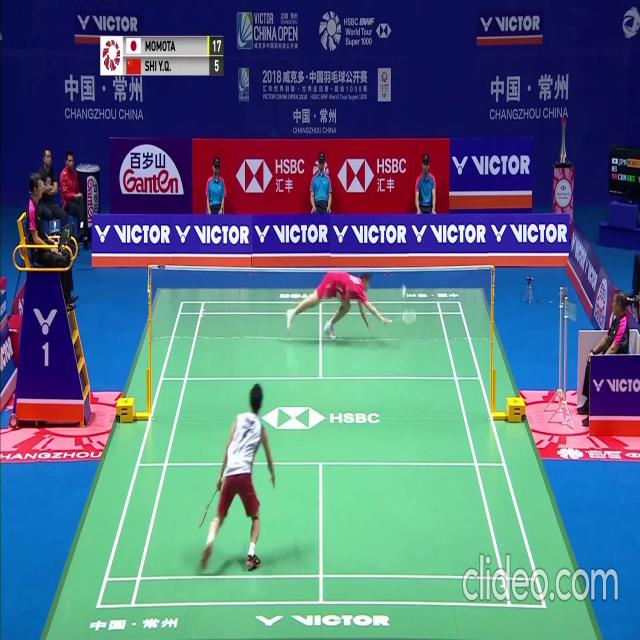Shuttlecock: (402, 282, 407, 290)
